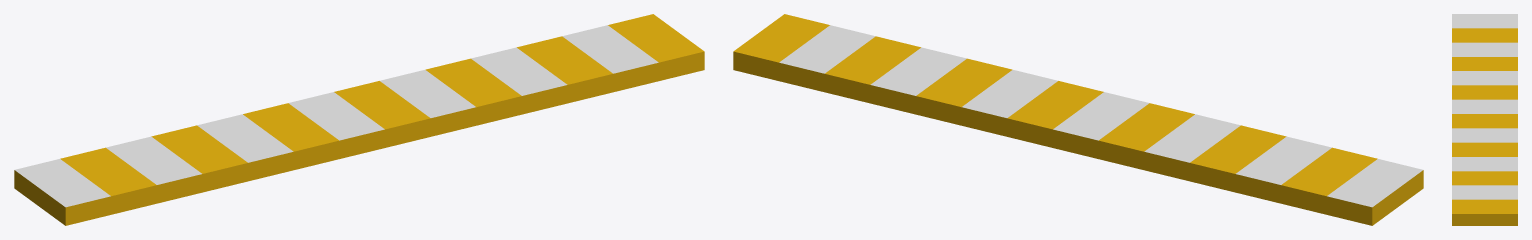
Rendered from runway.fbx.
The picture shows the model from 3 angles, left to right: view 1: azimuth 30°, elevation 25°; view 2: azimuth 150°, elevation 25°; view 3: azimuth 270°, elevation 25°; orthographic projection. The views are drawn at different scales.
Visible parts, largest first — view 1: Cube; view 2: Cube; view 3: Cube.
Boxes of the visible parts, box(x1,y1,x2,y2) form: Cube: box(14, 14, 704, 225); Cube: box(733, 14, 1423, 225); Cube: box(1452, 14, 1517, 225).
Bounding box in the file's own units: 7200 × 200 × 1000.
